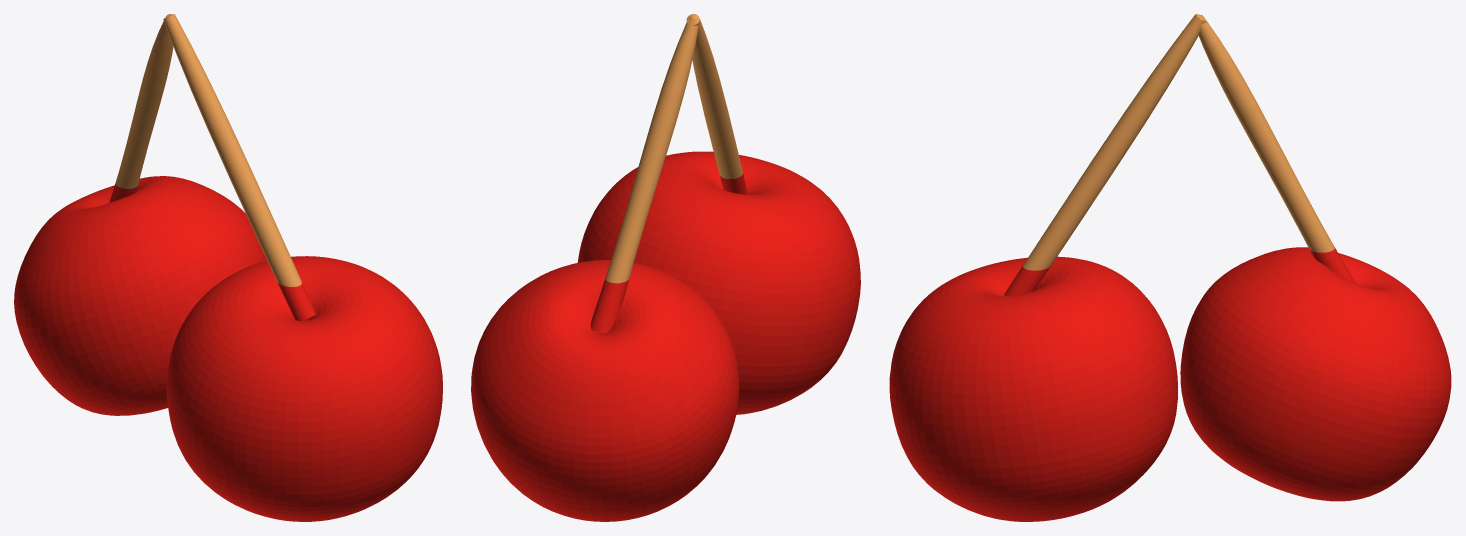
The model's file is Cherry.fbx.
3 views of the same model, side by side, from view 1: azimuth 30°, elevation 25°; view 2: azimuth 150°, elevation 25°; view 3: azimuth 270°, elevation 25° (orthographic). The views are drawn at different scales.
Parts seen in each view (by area): view 1: Cherry, Cherry.001; view 2: Cherry, Cherry.001; view 3: Cherry, Cherry.001.
Part boxes in pixels (box(x1,y1,x2,y2)): Cherry: box(14, 176, 442, 521); Cherry.001: box(115, 14, 301, 286); Cherry: box(471, 151, 860, 521); Cherry.001: box(605, 14, 742, 283); Cherry: box(889, 247, 1451, 521); Cherry.001: box(1023, 14, 1334, 270).
Size of the model in its own units: 8444 by 13901 by 15264.
